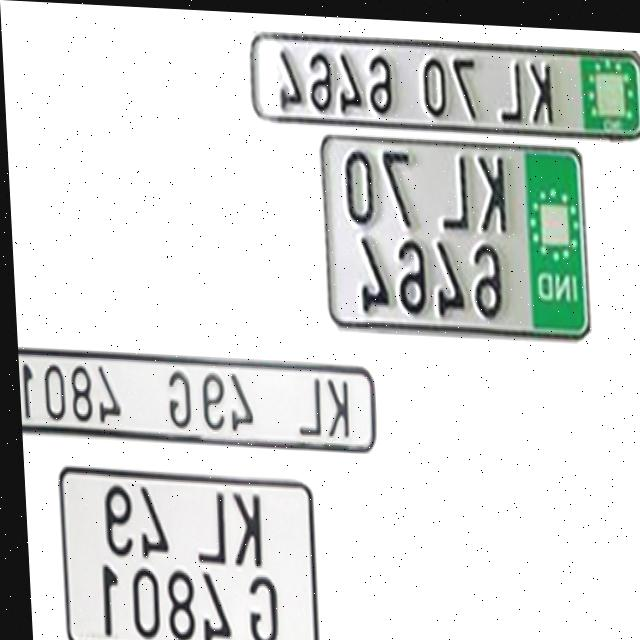plate: (318, 129, 592, 336), (51, 466, 316, 640), (248, 26, 640, 133), (14, 343, 372, 445)
